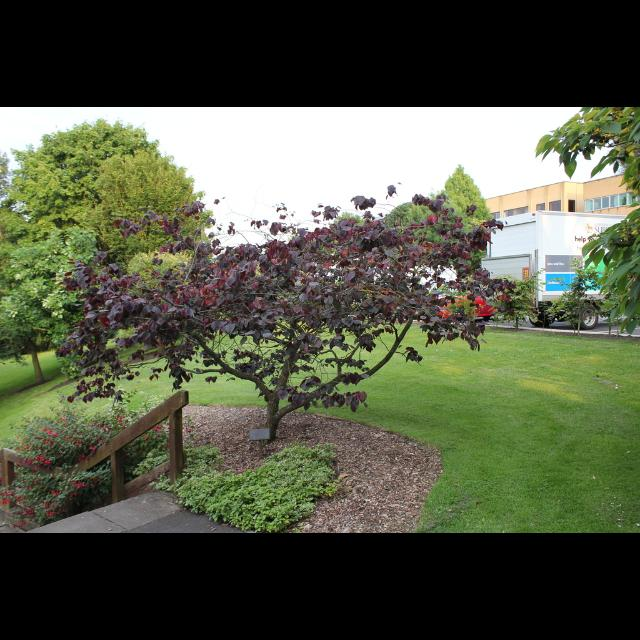Flower: (1, 422, 168, 528)
